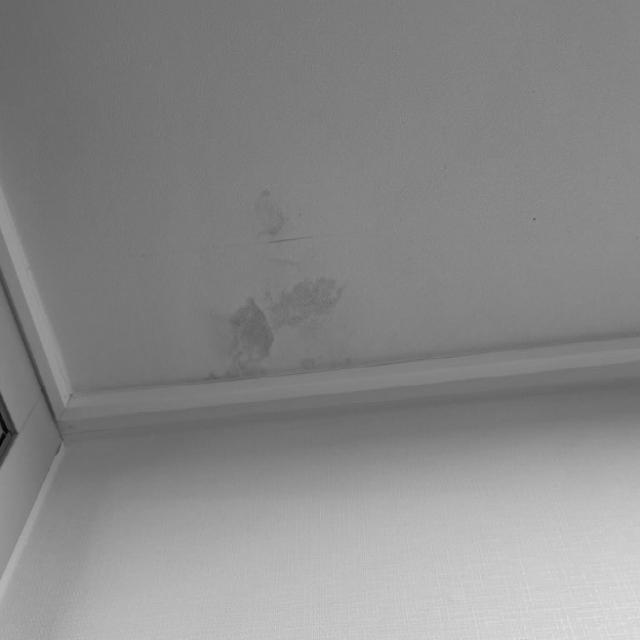stain marks: (211, 186, 348, 382)
